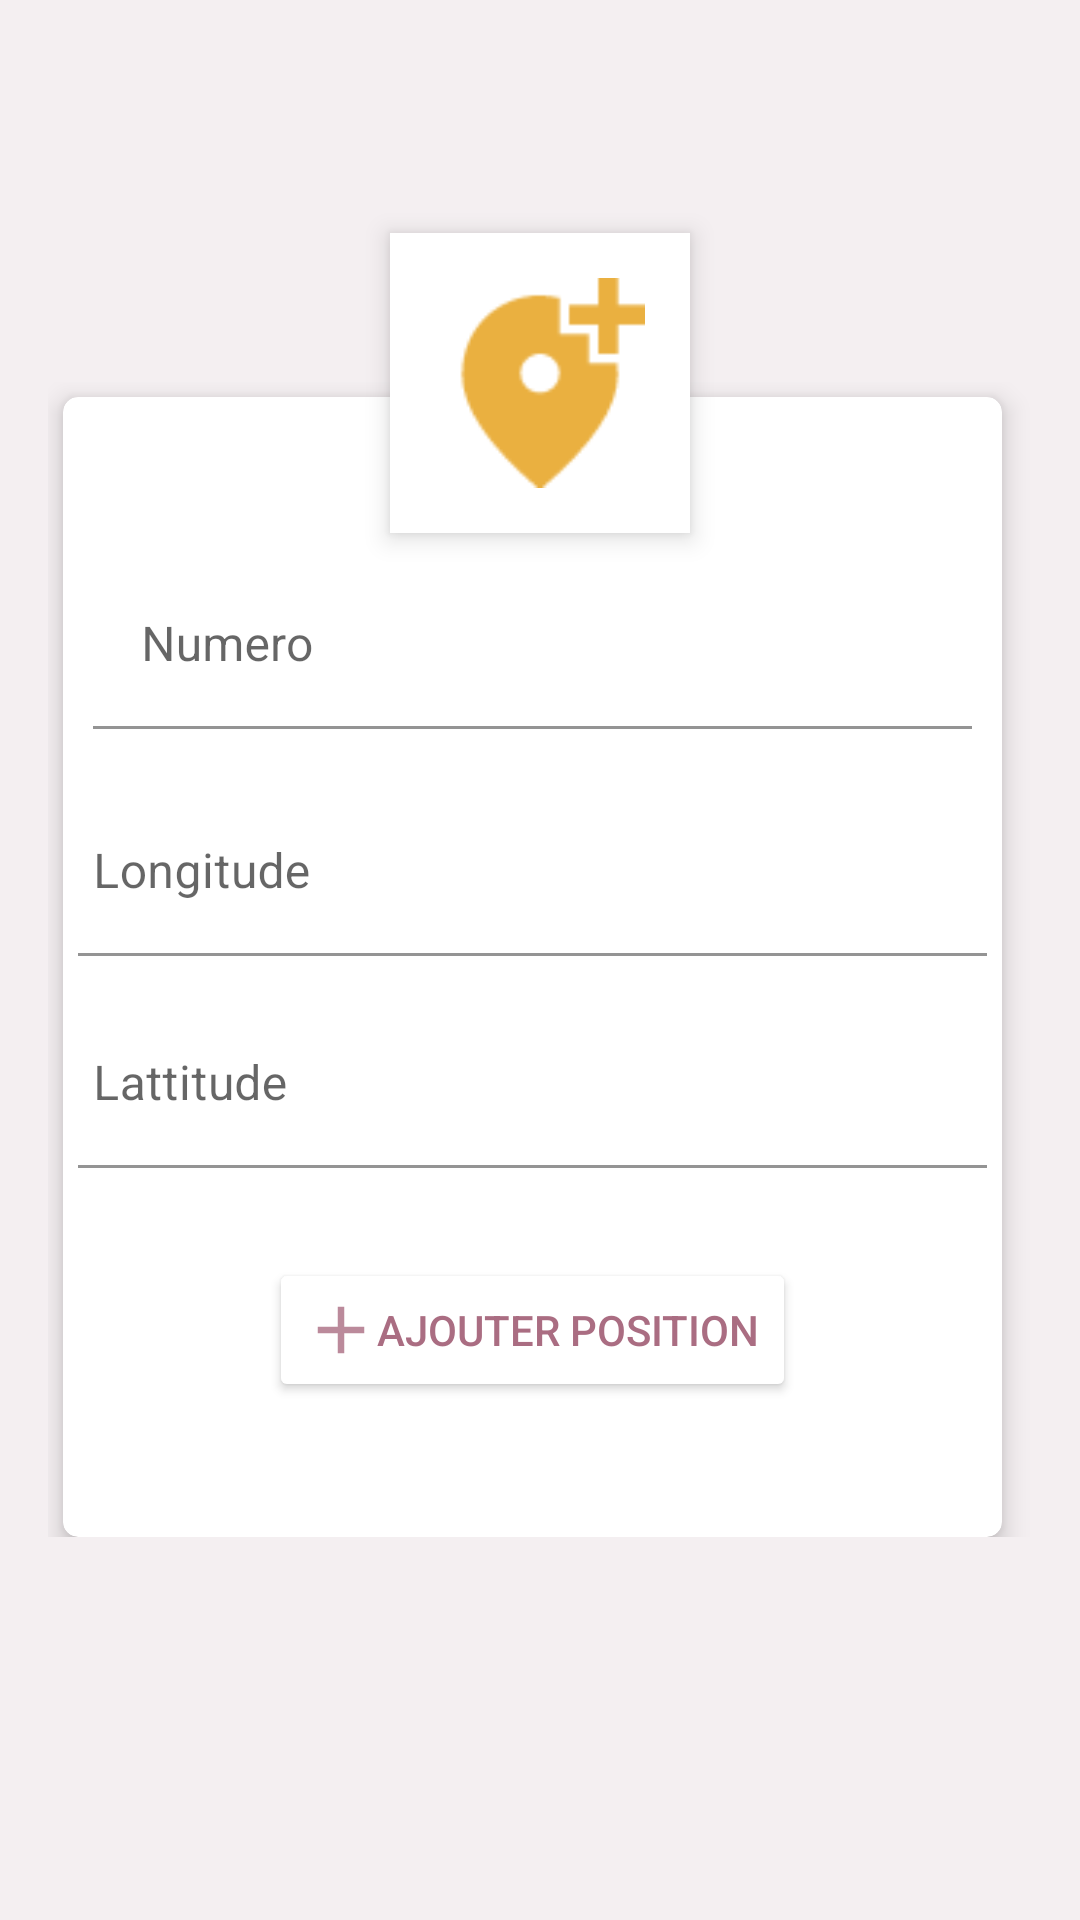

Where to tap for icons on this 1080 × 1920 app screen, as point (x, y):
location add: point (540, 383)
